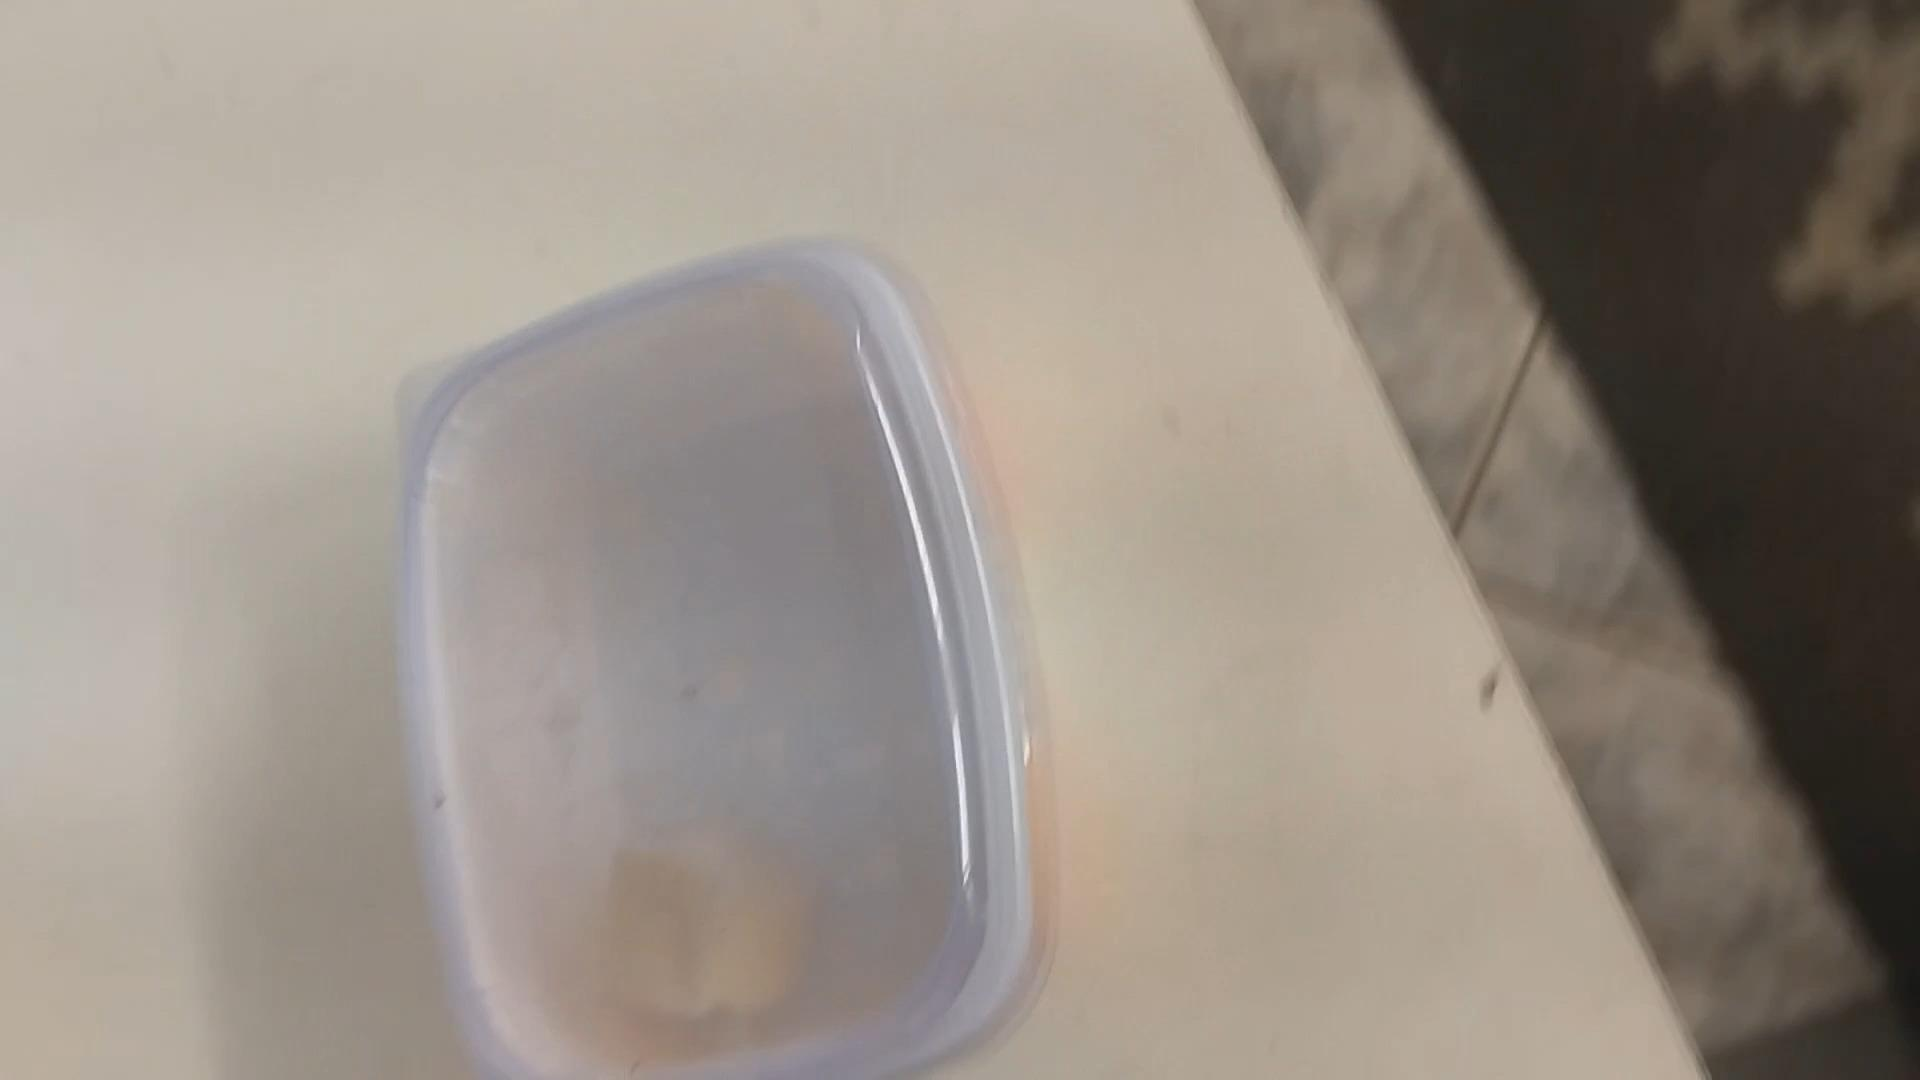butter: (400, 240, 1035, 1080)
